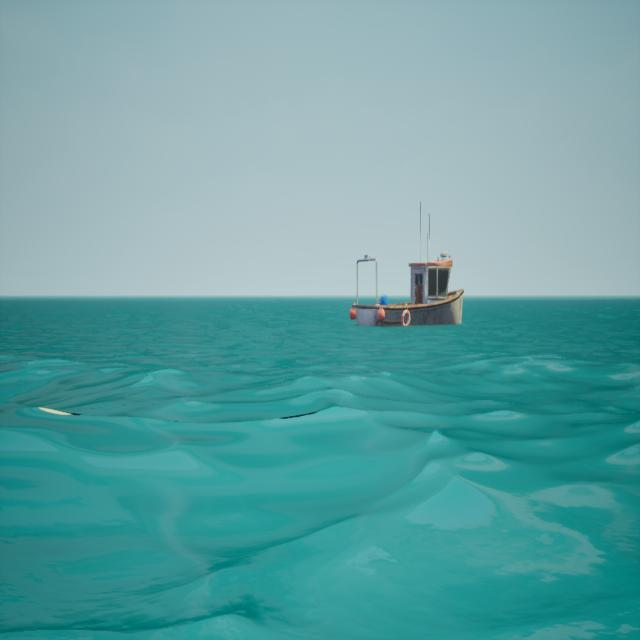ship: (338, 194, 471, 336)
